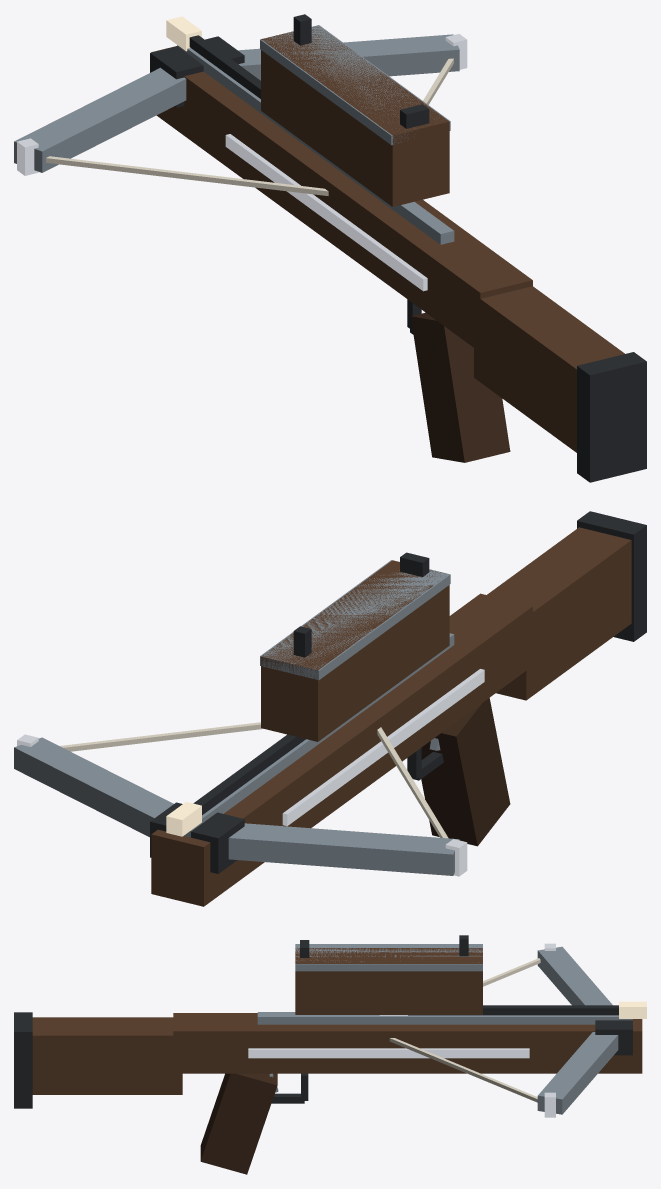
File: BO_SK_Weapon_Crossbow_v001.glb
3 views of the same model, one above another, from view 1: azimuth 30°, elevation 25°; view 2: azimuth 150°, elevation 25°; view 3: azimuth 270°, elevation 25° (orthographic). The views are drawn at different scales.
Parts seen in each view (by area): view 1: body_000, body_012, body_020, body_016, body_021, body_003, body_013, body_004, glowfx_023, body_001, attachment_007, body_002 (+3 smaller); view 2: body_000, body_012, body_020, body_016, body_003, body_013, body_004, glowfx_023, body_021, body_001, body_002, attachment_009 (+4 smaller); view 3: body_000, body_020, body_012, body_016, body_001, body_013, glowfx_022, body_004, body_003, body_021, attachment_009, attachment_008 (+3 smaller).
Boxes of the visible parts, box(x1,y1,x2,y2) form: body_000: box(151, 46, 532, 351); body_012: box(261, 27, 449, 206); body_020: box(474, 286, 624, 452); body_016: box(410, 312, 510, 462); body_021: box(577, 352, 646, 482); body_003: box(14, 67, 186, 172); body_013: box(260, 25, 450, 145); body_004: box(238, 34, 459, 80); glowfx_023: box(225, 134, 427, 291); body_001: box(177, 45, 454, 244); attachment_007: box(46, 156, 328, 195); body_002: box(150, 36, 244, 107); body_000: box(151, 593, 532, 906); body_012: box(261, 560, 449, 741); body_020: box(487, 527, 631, 700); body_016: box(421, 698, 510, 846); body_003: box(228, 823, 459, 875); body_013: box(260, 560, 450, 679); body_004: box(14, 737, 173, 837); glowfx_023: box(282, 669, 484, 826); body_021: box(577, 511, 646, 641); body_001: box(184, 633, 454, 837); body_002: box(150, 802, 244, 873); attachment_009: box(193, 734, 305, 814); body_000: box(173, 1013, 642, 1073); body_020: box(32, 1017, 182, 1094); body_012: box(295, 948, 482, 1014); body_016: box(200, 1073, 277, 1174); body_001: box(257, 1012, 632, 1024); body_013: box(295, 944, 482, 971); glowfx_022: box(248, 1048, 529, 1058); body_004: box(537, 1032, 618, 1114); body_003: box(537, 946, 612, 1005); body_021: box(14, 1012, 32, 1108); attachment_009: box(408, 1005, 618, 1015); attachment_008: box(389, 1038, 537, 1102).
Bounding box in the file's own units: 0.388 × 0.2702 × 0.675.
